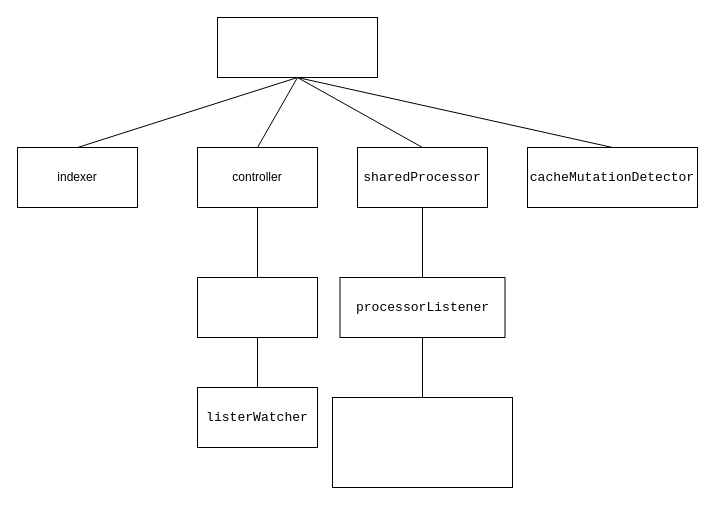
Image size: 715x505. Some labels were removed from this diagram. Here are the shapes that lost their labels. From the top down, the centre of each, then its label:
the point at 297,47: sharedIndexInformer
the point at 257,307: reflector
the point at 422,442: nextCh addCh ring buffer ResourceEventHandler
